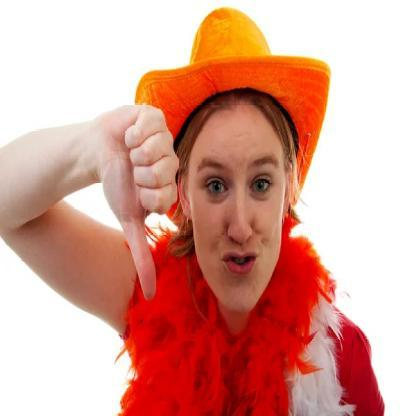thumb_down: (92, 98, 180, 300)
